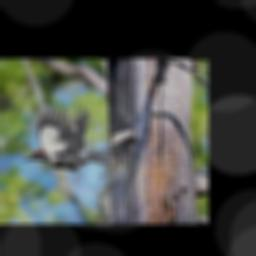Woodpecker: (20, 105, 115, 184)
